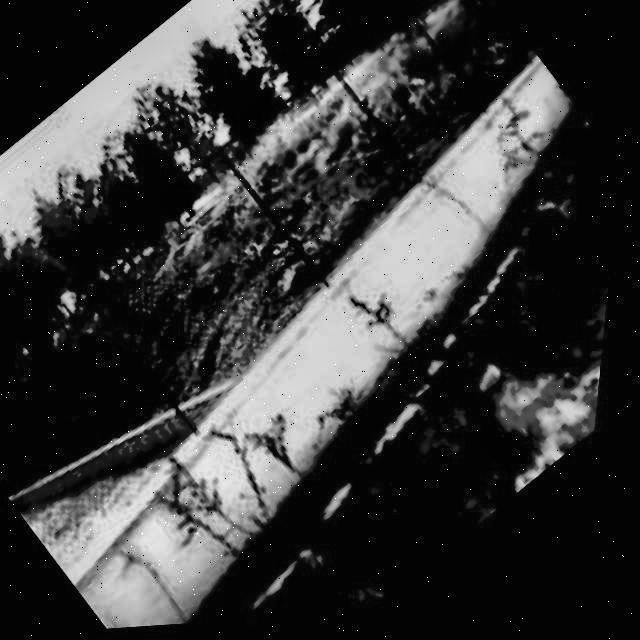Fire: (483, 321, 613, 488)
